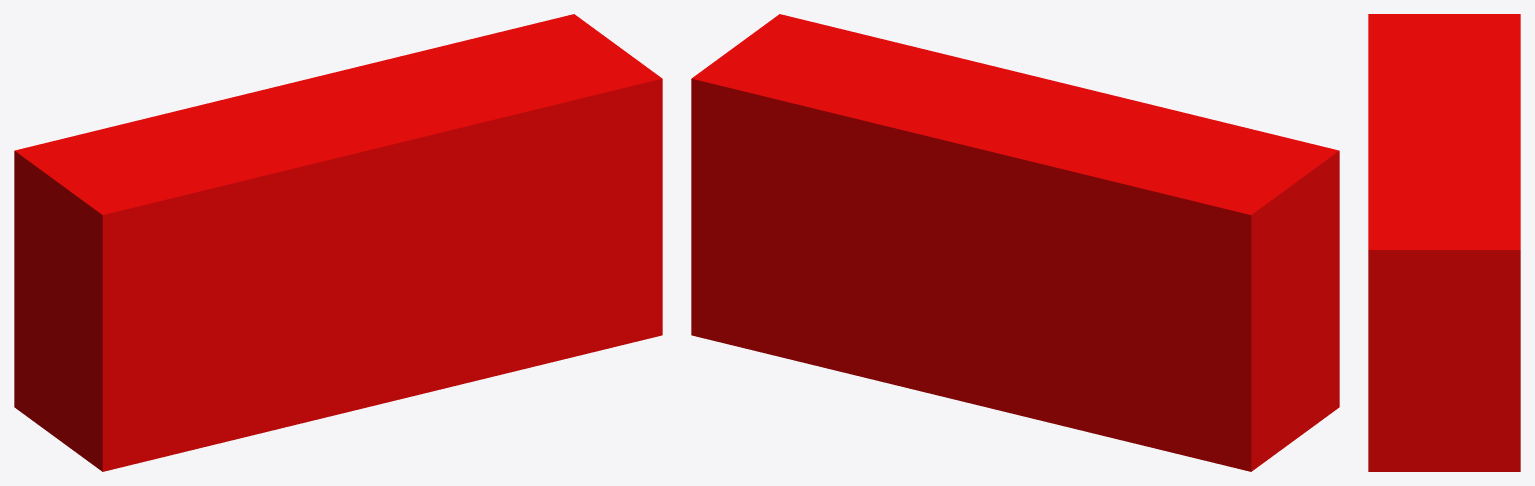
The model's file is l_foot_col.dae.
3 views of the same model, side by side, from view 1: azimuth 30°, elevation 25°; view 2: azimuth 150°, elevation 25°; view 3: azimuth 270°, elevation 25° (orthographic). The views are drawn at different scales.
Visible parts, largest first — view 1: node0; view 2: node0; view 3: node0.
Boxes of the visible parts, bbox=[...] form: node0: bbox=[14, 14, 662, 471]; node0: bbox=[691, 14, 1339, 471]; node0: bbox=[1368, 14, 1520, 471].
Size of the model in its own units: 0.1936 by 0.0849 by 0.0529.
